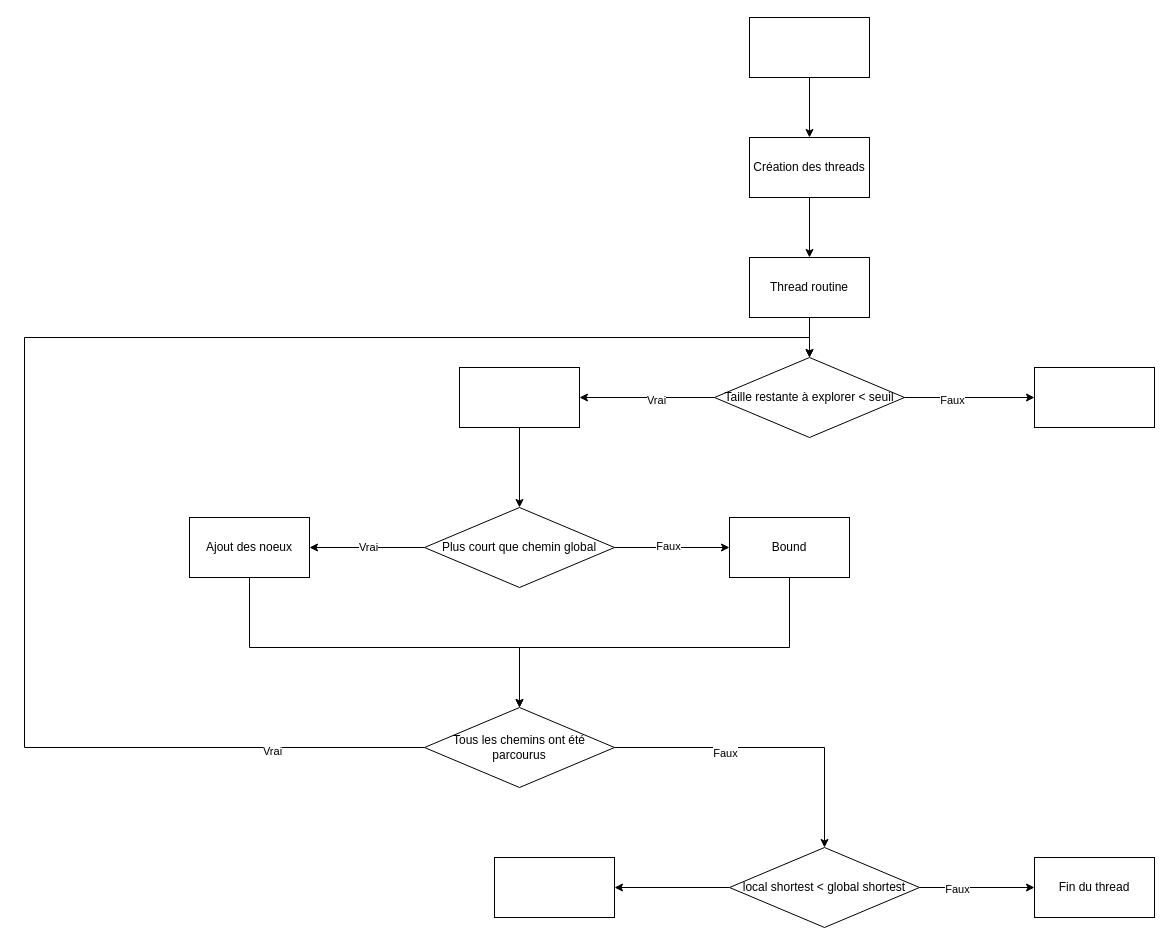
This 1172x945 diagram has some shape labels left out. Each missing label, with the centre of its shape:
"Branch and bound" belongs at [519,397].
"Chemin le plus court devient la variable global" belongs at [554,887].
"Démarrage programme" belongs at [809,47].
"Exploration séquentielle" belongs at [1094,397].
